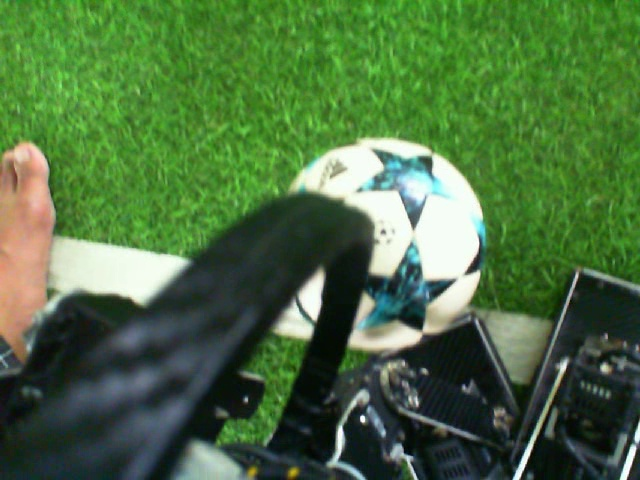ball: (330, 135, 487, 361)
